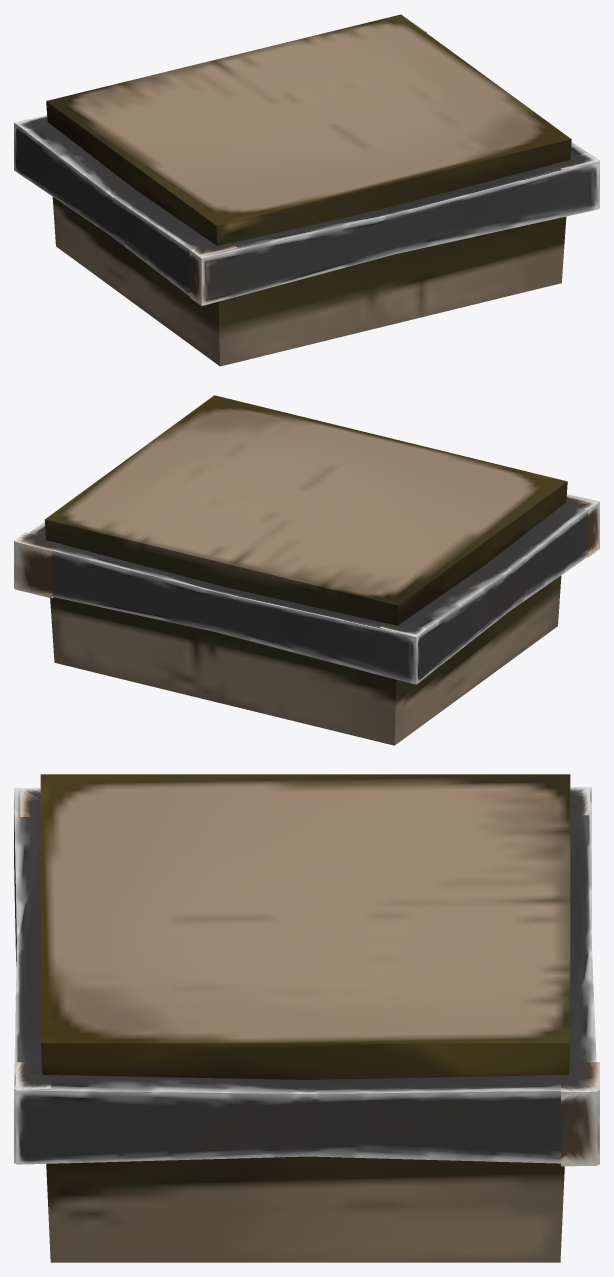
The model's file is Rome_Village_Props_08.FBX.
3 renders of one model, top to bottom at view 1: azimuth 30°, elevation 25°; view 2: azimuth 150°, elevation 25°; view 3: azimuth 270°, elevation 25°, orthographic. The views are drawn at different scales.
Parts seen in each view (by area): view 1: Rome_Village_Props_08; view 2: Rome_Village_Props_08; view 3: Rome_Village_Props_08.
Part boxes in pixels (x1=…): Rome_Village_Props_08: x1=14, y1=14, x2=599, y2=366; Rome_Village_Props_08: x1=14, y1=395, x2=599, y2=745; Rome_Village_Props_08: x1=14, y1=774, x2=599, y2=1262.
Size of the model in its own units: 93.13 by 31.96 by 75.57.
